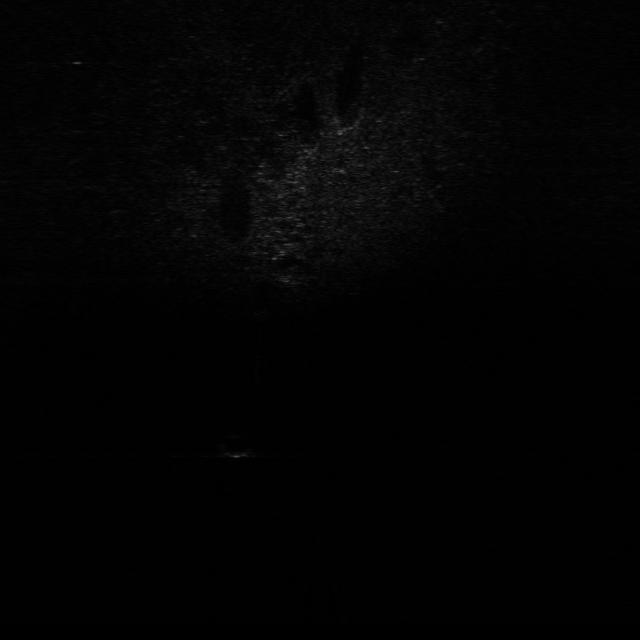ball: (214, 429, 260, 461)
